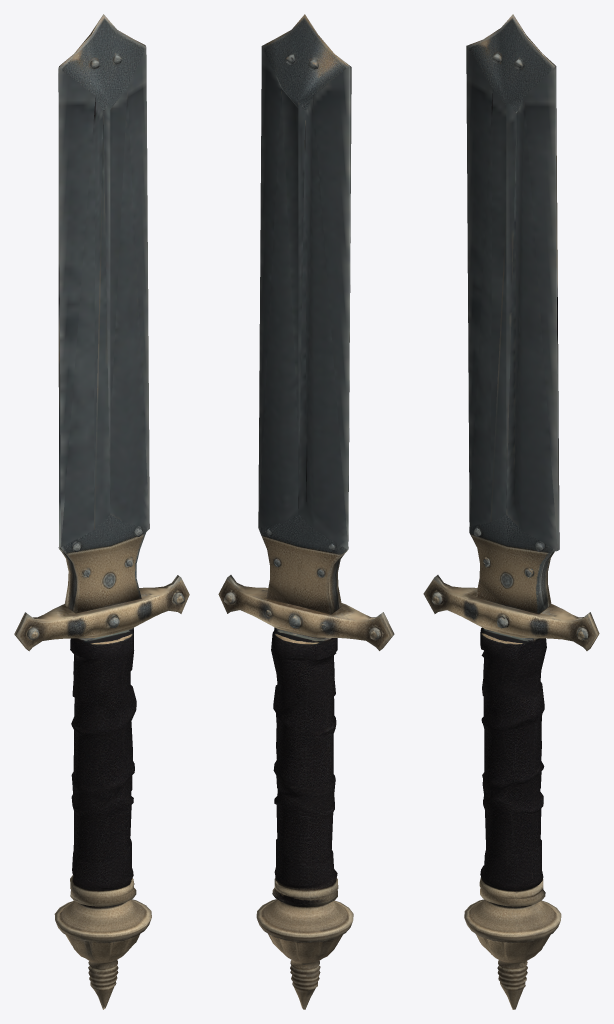
3 views of the same model, side by side, from view 1: azimuth 30°, elevation 25°; view 2: azimuth 150°, elevation 25°; view 3: azimuth 330°, elevation 25° (orthographic).
Bounding box in the file's own units: 0.1729 × 0.9507 × 0.0815.
Materials: 1 (1 with a texture image).
